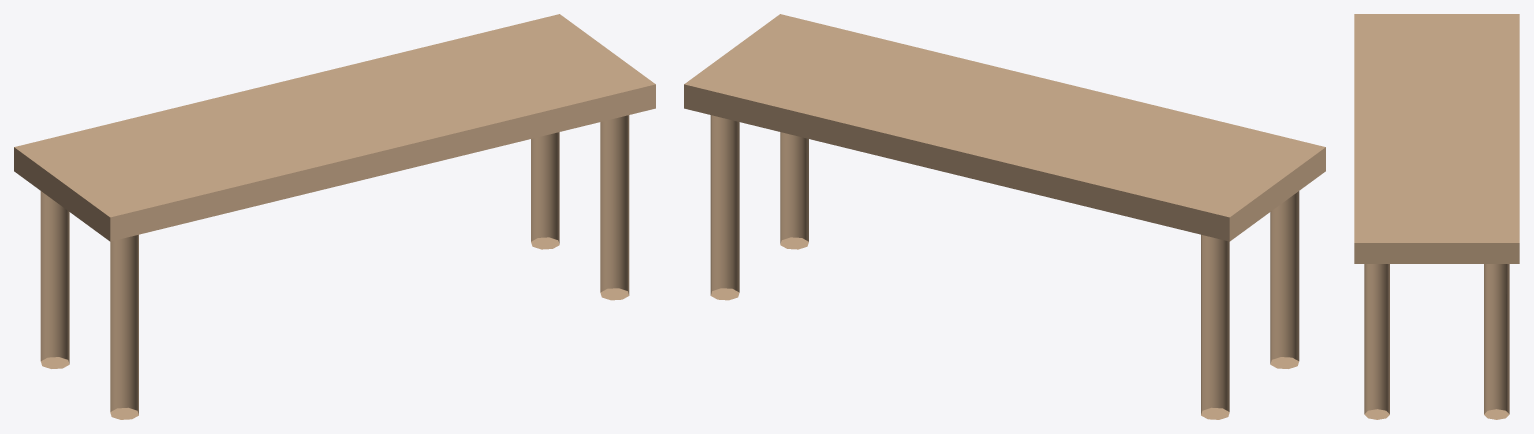
File: bench_04.glb
3 views of the same model, side by side, from view 1: azimuth 30°, elevation 25°; view 2: azimuth 150°, elevation 25°; view 3: azimuth 270°, elevation 25° (orthographic). The views are drawn at different scales.
Bounding box in the file's own units: 1.18 × 0.44 × 0.36.
